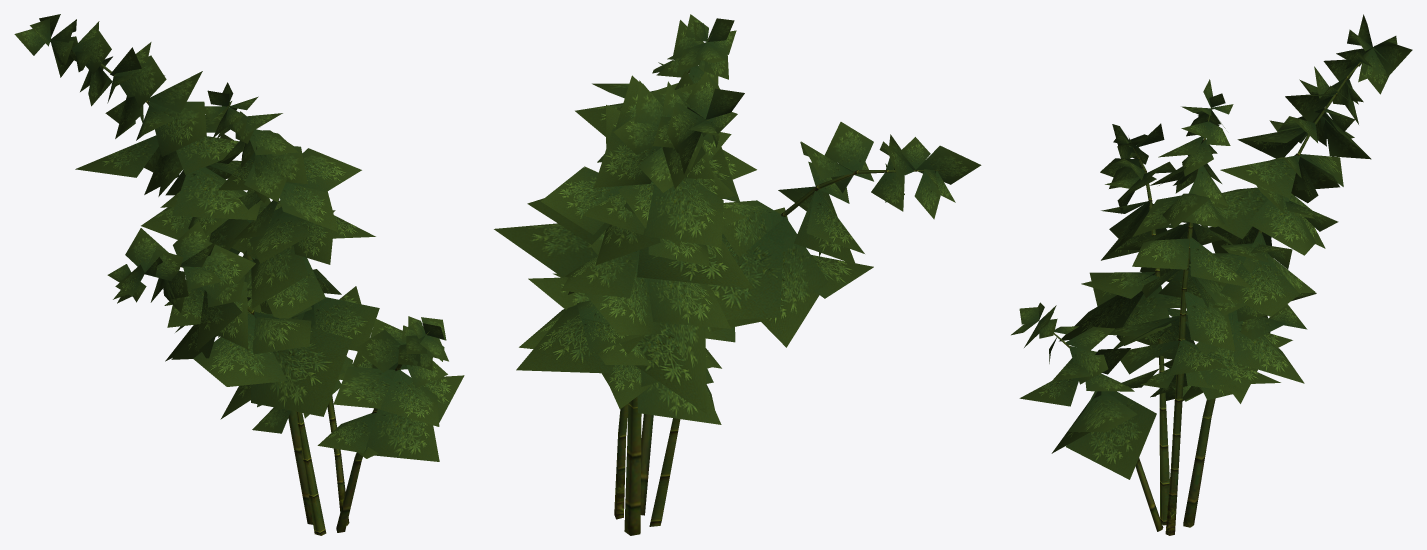
File: xt_zhuzi02.FBX
3 renders of one model, left to right at view 1: azimuth 30°, elevation 25°; view 2: azimuth 150°, elevation 25°; view 3: azimuth 270°, elevation 25°, orthographic. The views are drawn at different scales.
Parts seen in each view (by area): view 1: xt_zhuzi02; view 2: xt_zhuzi02; view 3: xt_zhuzi02.
Part boxes in pixels (left/top/right/bottom): xt_zhuzi02: left=14, top=14, right=464, bottom=535; xt_zhuzi02: left=494, top=14, right=981, bottom=535; xt_zhuzi02: left=1011, top=14, right=1412, bottom=535.
Size of the model in its own units: 874 by 1148 by 971.
